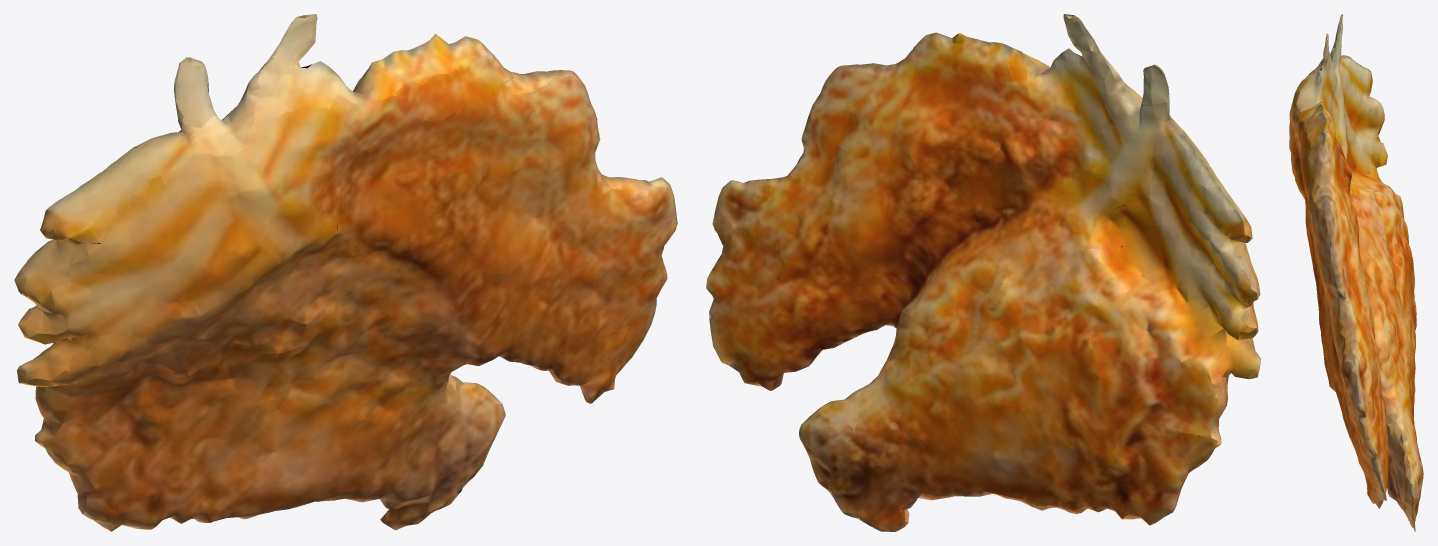
File: drumstick deal 2.glb
The picture shows the model from 3 angles, left to right: view 1: azimuth 30°, elevation 25°; view 2: azimuth 150°, elevation 25°; view 3: azimuth 270°, elevation 25°; orthographic projection. The views are drawn at different scales.
Visible parts, largest first — view 1: world; view 2: world; view 3: world.
Part boxes in pixels (x1,y1,x2,y2): world: [14, 14, 677, 531]; world: [706, 14, 1260, 531]; world: [1289, 14, 1423, 531].
Size of the model in its own units: 0.9657 by 0.8471 by 0.2387.
Materials: 1 (1 with a texture image).
